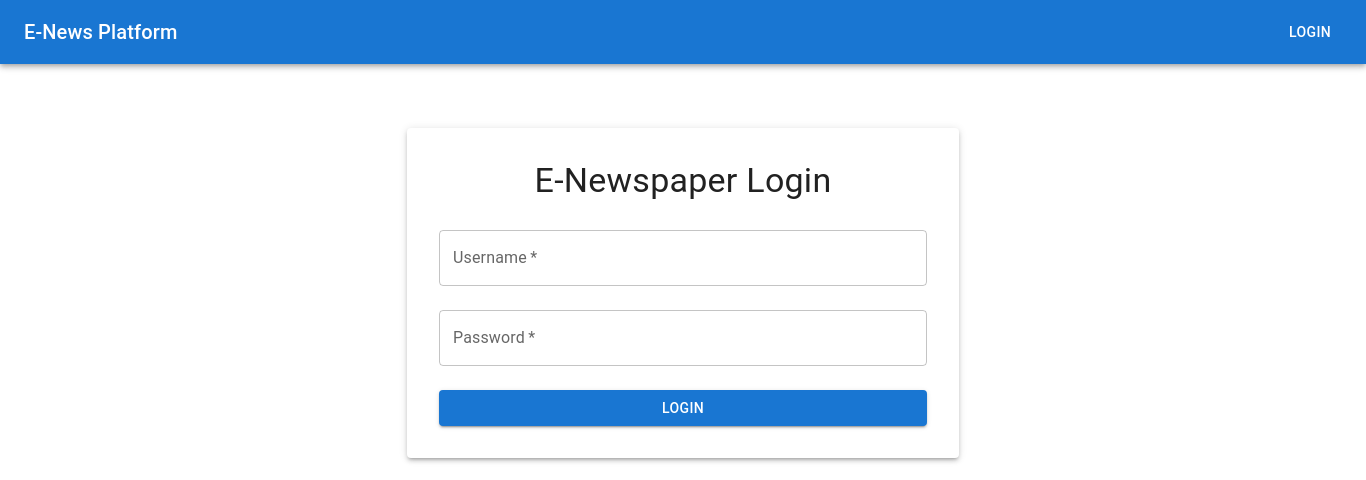
Test: redirects unauthenticated users to login and returns them to their requested page
Type "admin" into the field labelled "Username *" at (683, 258), box x1=439 y1=230 x2=927 y2=286
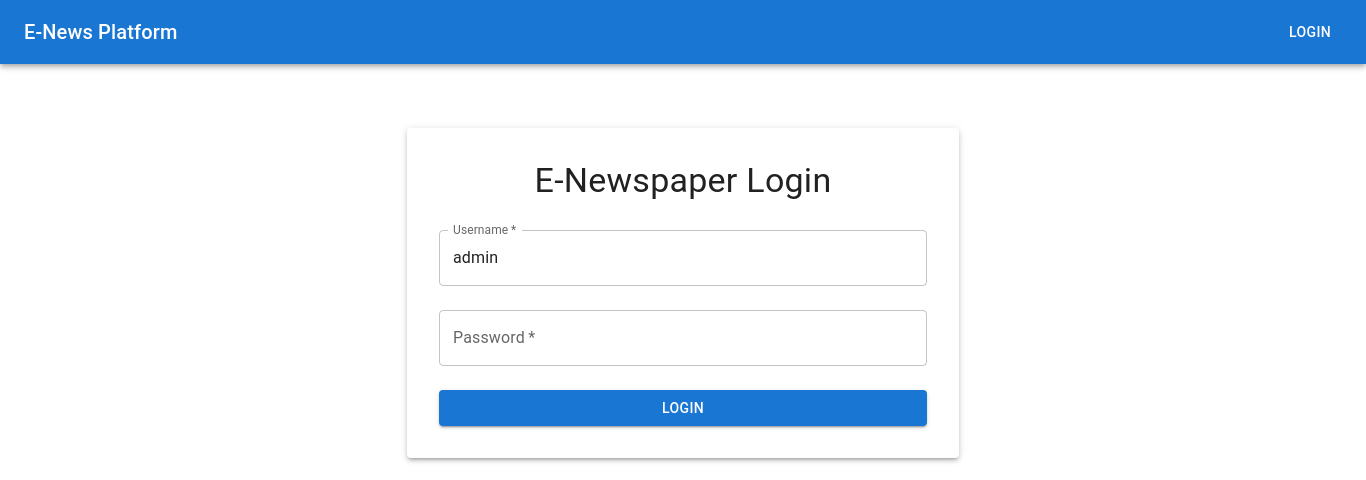
Type "test-password" into the password field labelled "Password *" at (683, 338), box x1=439 y1=310 x2=927 y2=366
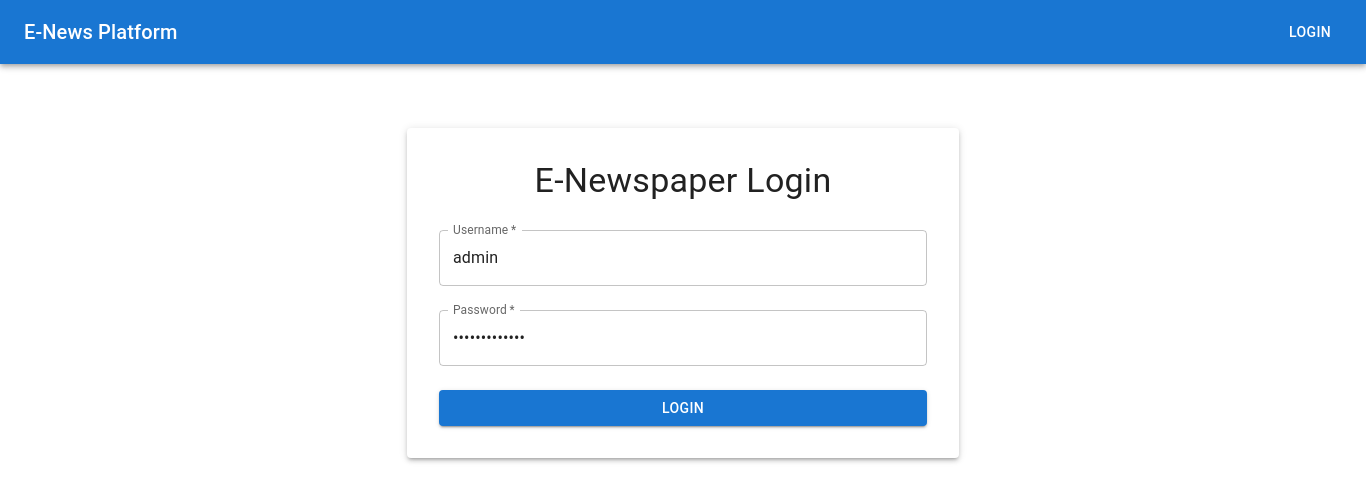
Click the button "Login" at (683, 408), box x1=439 y1=390 x2=927 y2=426
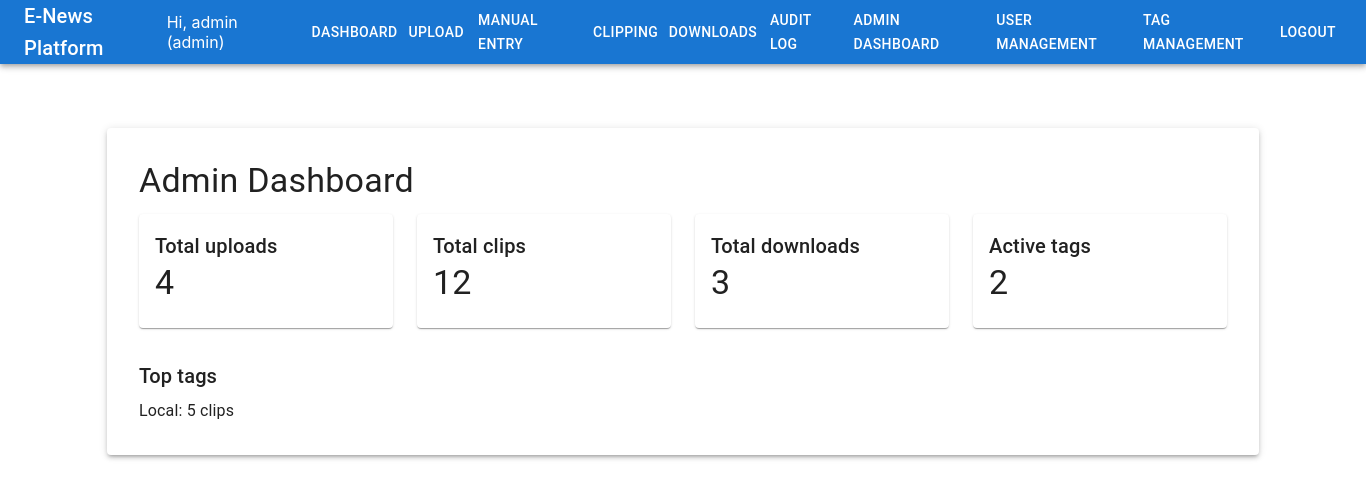
expect the link "Admin Dashboard" is shown: met, box x1=854 y1=12 x2=940 y2=52
expect the heading "Total uploads" is shown: met, box x1=155 y1=234 x2=277 y2=258
